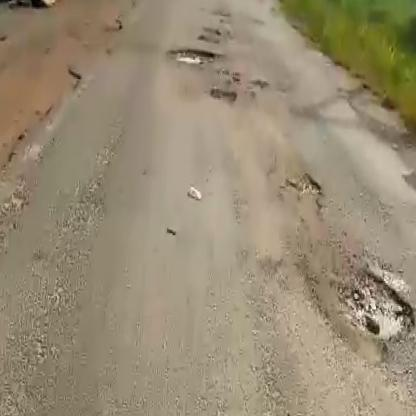pothole: (333, 258, 416, 346), (279, 172, 324, 204), (165, 43, 216, 65), (208, 85, 238, 106)
